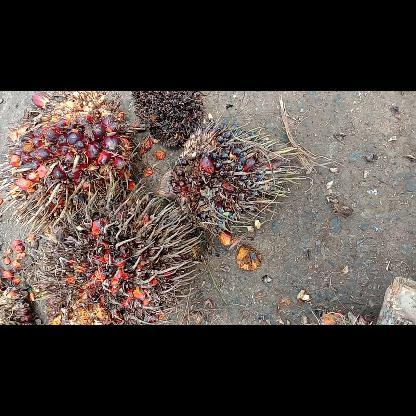TBS abnormal: (153, 122, 305, 240), (129, 90, 205, 150)
TBS masak: (10, 92, 145, 224)
Terlalu masak: (42, 196, 204, 324)
